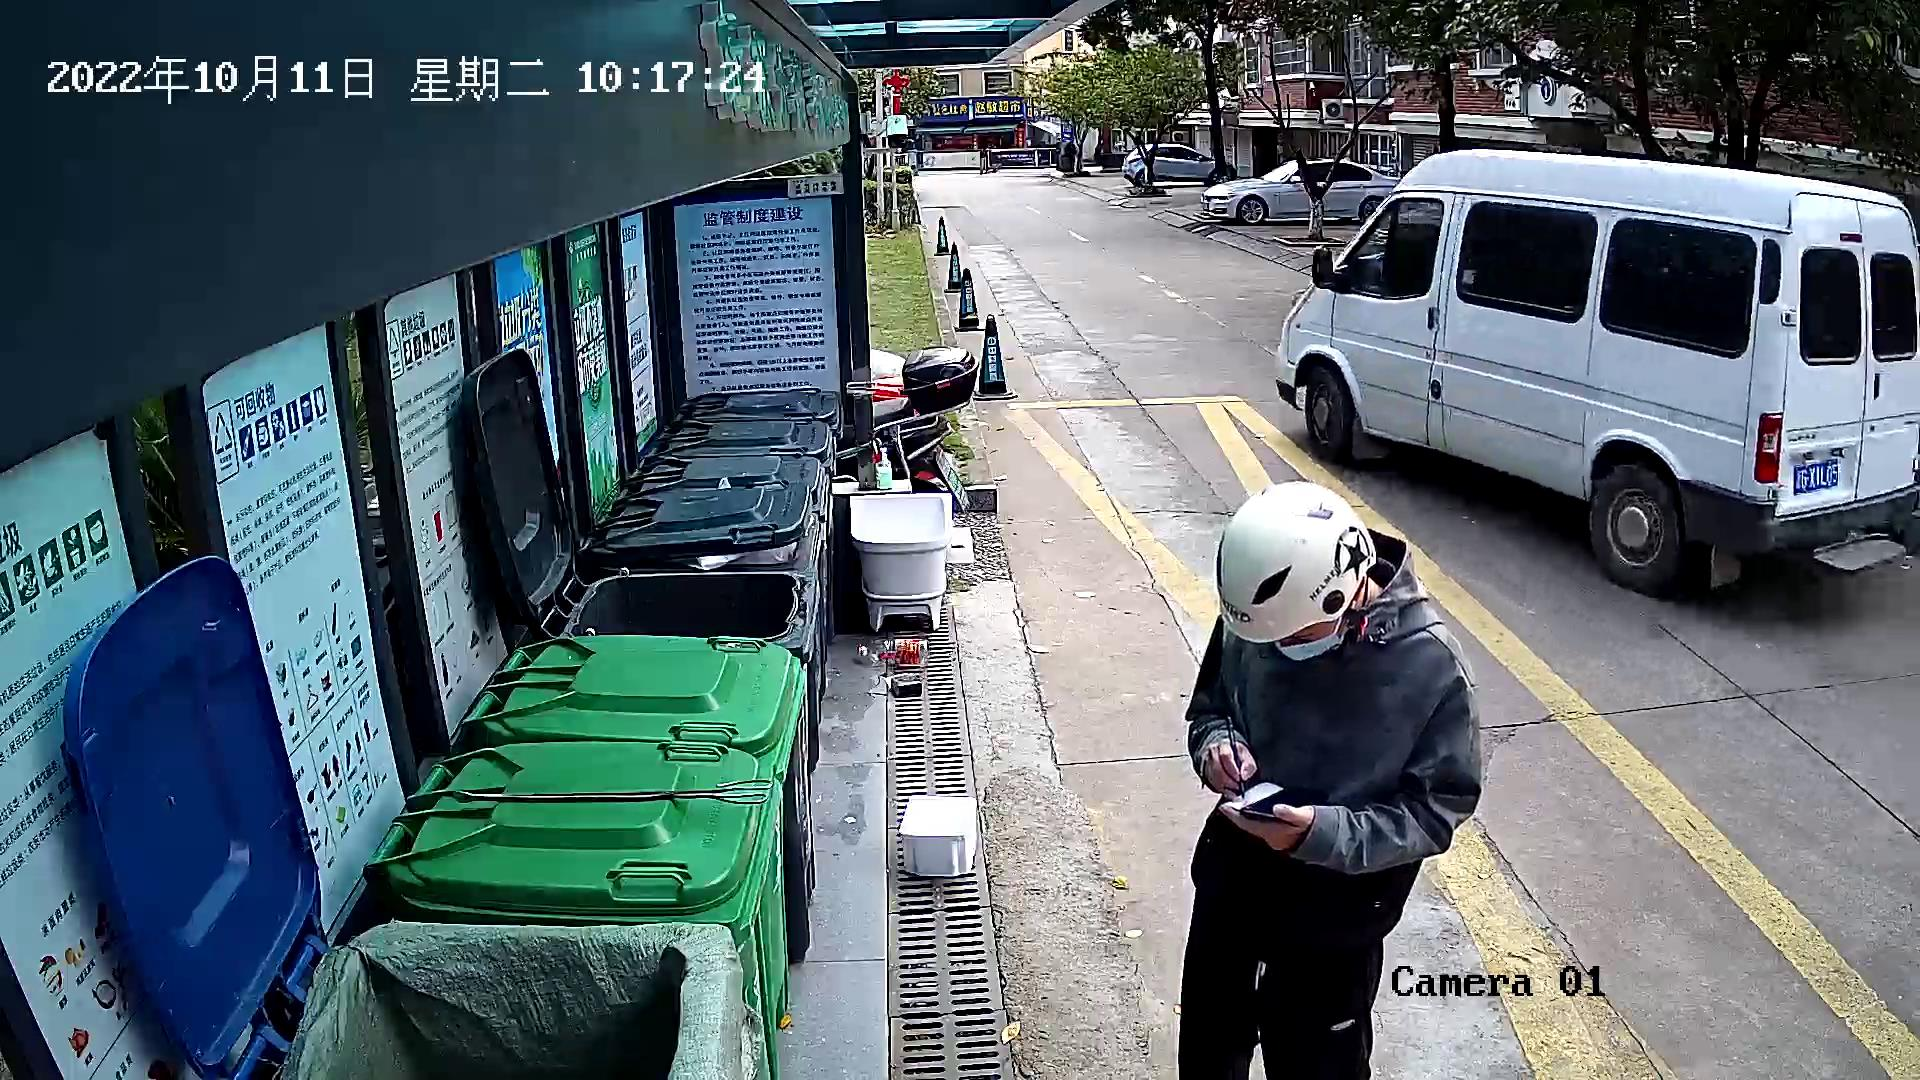paomozhipin: (896, 792, 987, 882)
person: (1161, 478, 1492, 1080)
suliaozhipin: (850, 633, 940, 671)
zhizhipin: (878, 667, 930, 700)
